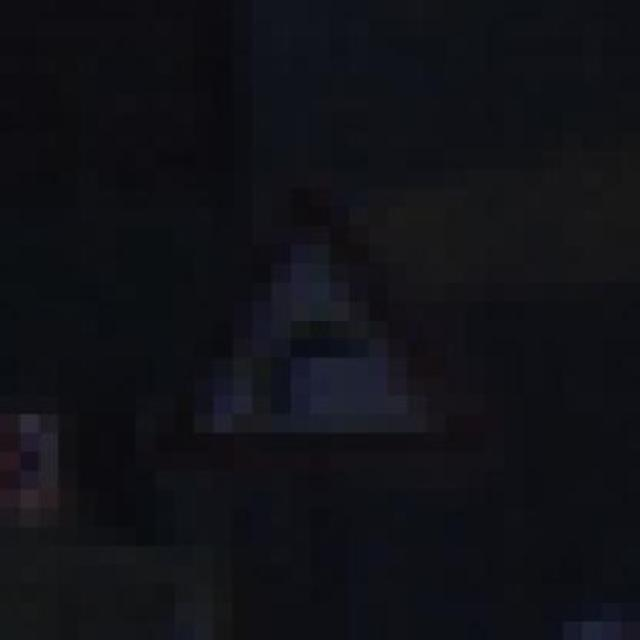Dangerous Rright Curve Ahead: (172, 182, 462, 502)
